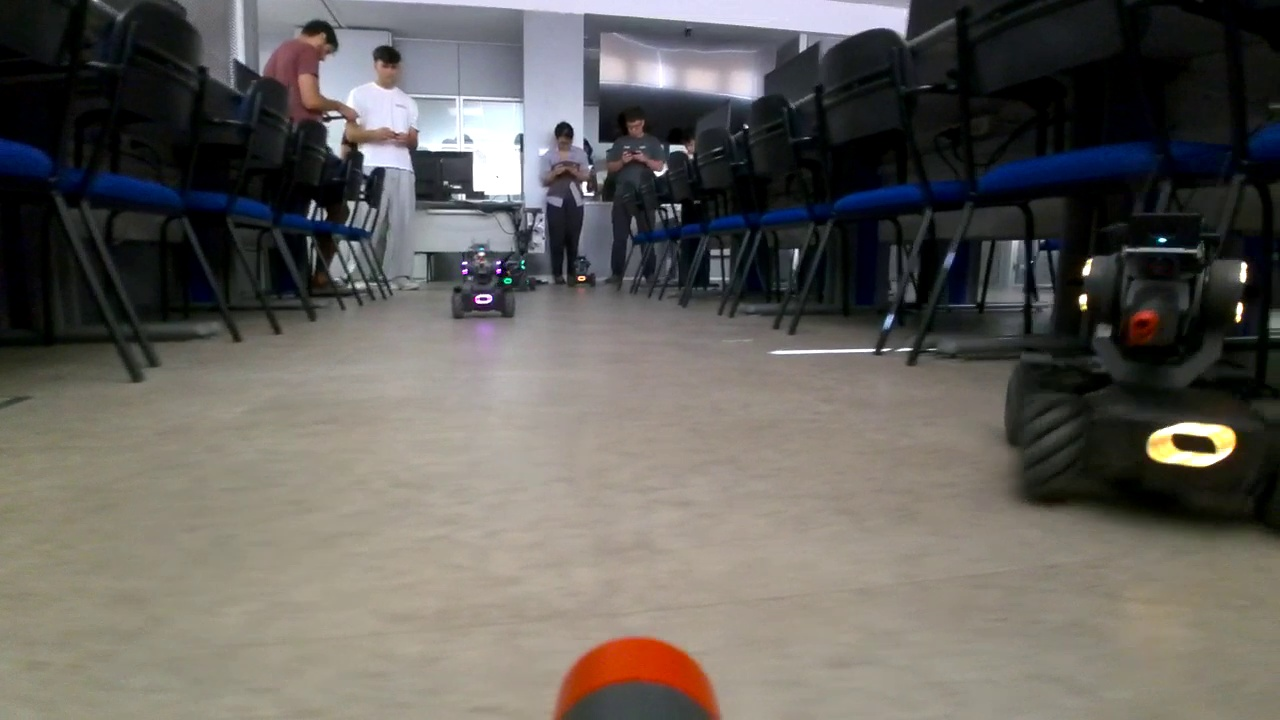robot: (1004, 184, 1280, 519), (450, 241, 516, 318), (498, 258, 537, 293), (565, 254, 597, 287)
